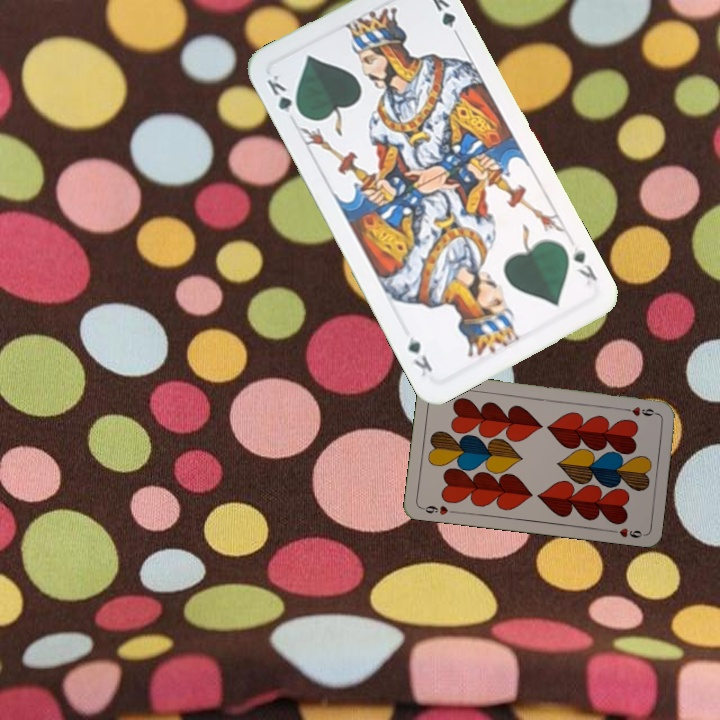GK: (262, 70, 305, 121), (569, 242, 600, 284)
H9: (619, 403, 660, 419), (418, 501, 458, 517)
